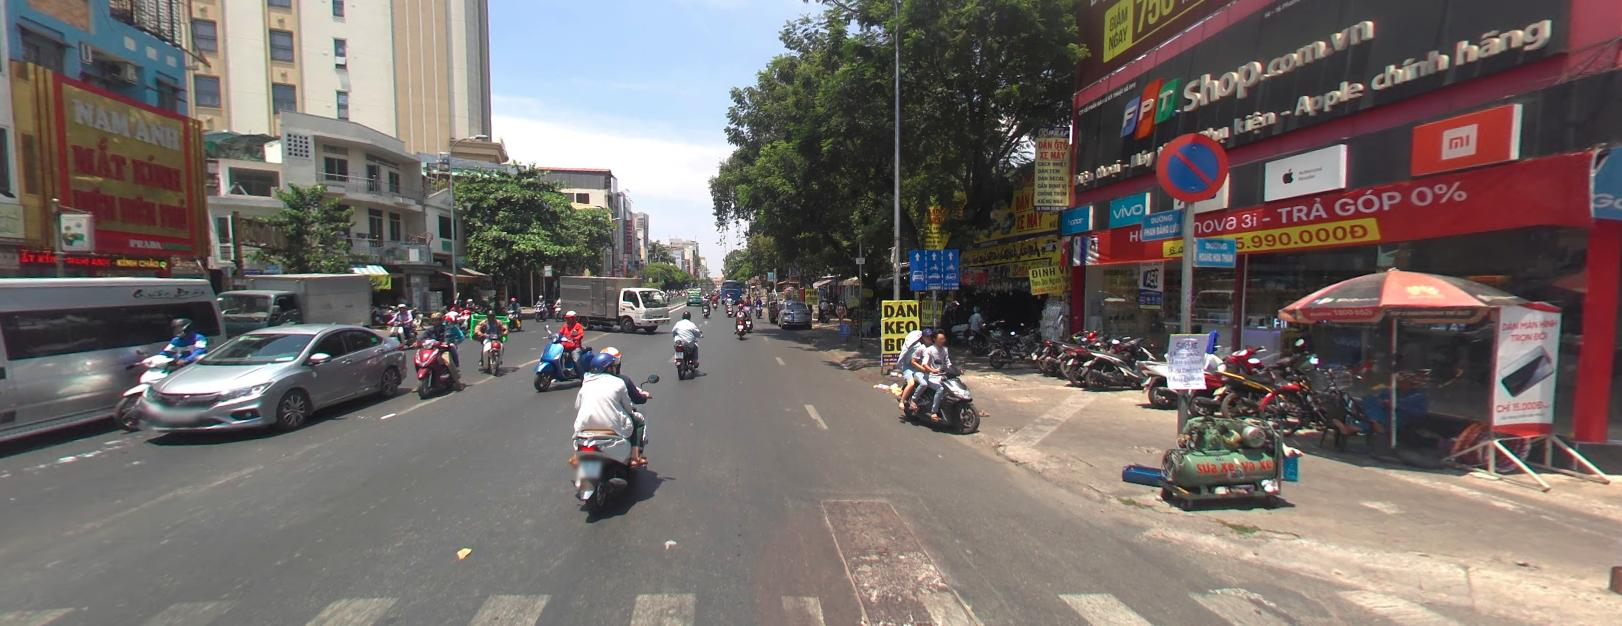Cam dung va do: (1157, 130, 1226, 201)
